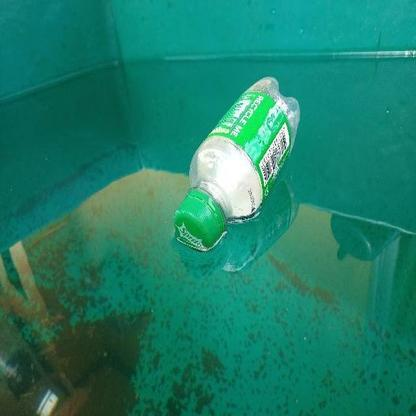plastic bottle: (173, 77, 301, 248)
